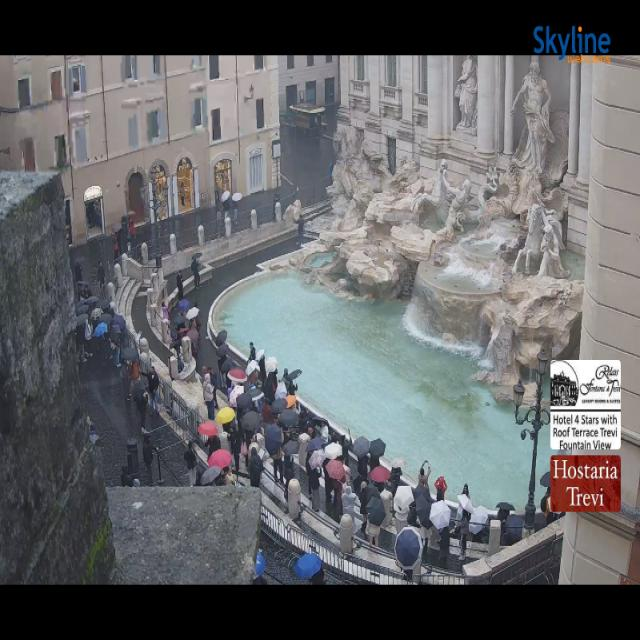person: (470, 510, 503, 544), (141, 366, 159, 412), (228, 384, 243, 436), (229, 422, 243, 475), (84, 318, 103, 357), (456, 510, 469, 558), (184, 440, 197, 487), (204, 373, 217, 419), (262, 369, 278, 405), (221, 358, 235, 399), (249, 448, 263, 488), (540, 489, 555, 525), (322, 458, 333, 507), (342, 484, 355, 525), (79, 324, 93, 362), (501, 520, 522, 545), (196, 468, 223, 487), (77, 285, 93, 317), (77, 284, 93, 316), (268, 369, 285, 399), (241, 430, 254, 468), (137, 392, 148, 435), (308, 468, 319, 511), (91, 320, 103, 359), (298, 405, 312, 438), (284, 455, 294, 501), (439, 526, 450, 567), (143, 435, 152, 485), (208, 369, 219, 409), (244, 360, 258, 391), (76, 325, 87, 363), (418, 519, 432, 548), (352, 476, 367, 503), (352, 475, 367, 502), (207, 359, 220, 390), (352, 475, 367, 501), (217, 355, 227, 394), (242, 362, 255, 392), (394, 508, 409, 534), (273, 448, 284, 483), (419, 460, 431, 492), (120, 365, 131, 399), (340, 431, 351, 464), (223, 422, 235, 452), (333, 479, 343, 515), (204, 470, 225, 487), (305, 452, 313, 496), (84, 318, 93, 357), (283, 370, 297, 395), (366, 522, 380, 547), (390, 468, 402, 497), (260, 404, 272, 431), (281, 425, 299, 443), (272, 411, 286, 434), (489, 510, 510, 525), (499, 510, 508, 545), (100, 333, 112, 359), (194, 300, 202, 339), (407, 502, 419, 528), (215, 189, 223, 228), (116, 228, 127, 256), (202, 366, 216, 387), (435, 477, 447, 501), (129, 360, 139, 388), (540, 489, 550, 517), (111, 339, 120, 368), (278, 369, 288, 395), (207, 436, 220, 456), (191, 257, 199, 289), (170, 338, 181, 361), (252, 396, 266, 414), (86, 203, 96, 228), (210, 472, 226, 487), (221, 468, 235, 485), (291, 398, 302, 419), (360, 499, 367, 532), (259, 356, 266, 389), (275, 380, 287, 399), (79, 282, 92, 299), (357, 456, 367, 477), (311, 569, 325, 584), (129, 218, 136, 247), (176, 271, 183, 299), (112, 231, 119, 259), (320, 423, 329, 444), (97, 262, 104, 289), (343, 464, 351, 487), (88, 417, 97, 437), (232, 202, 238, 231), (297, 215, 303, 244), (273, 193, 279, 221), (106, 300, 115, 318), (80, 285, 91, 299), (292, 186, 301, 203), (223, 198, 231, 217), (179, 182, 185, 207), (373, 482, 385, 494), (84, 284, 94, 298), (75, 263, 82, 282), (176, 319, 187, 331), (307, 426, 317, 439), (196, 469, 203, 487), (83, 284, 92, 298), (177, 353, 183, 374), (253, 575, 267, 584), (370, 455, 379, 469), (462, 484, 470, 499), (462, 484, 470, 498), (403, 570, 413, 581), (162, 302, 168, 319), (436, 489, 444, 501), (188, 318, 196, 330), (191, 343, 197, 359), (250, 343, 255, 361), (331, 432, 339, 443), (329, 163, 333, 183), (554, 512, 565, 519), (133, 478, 140, 487)
